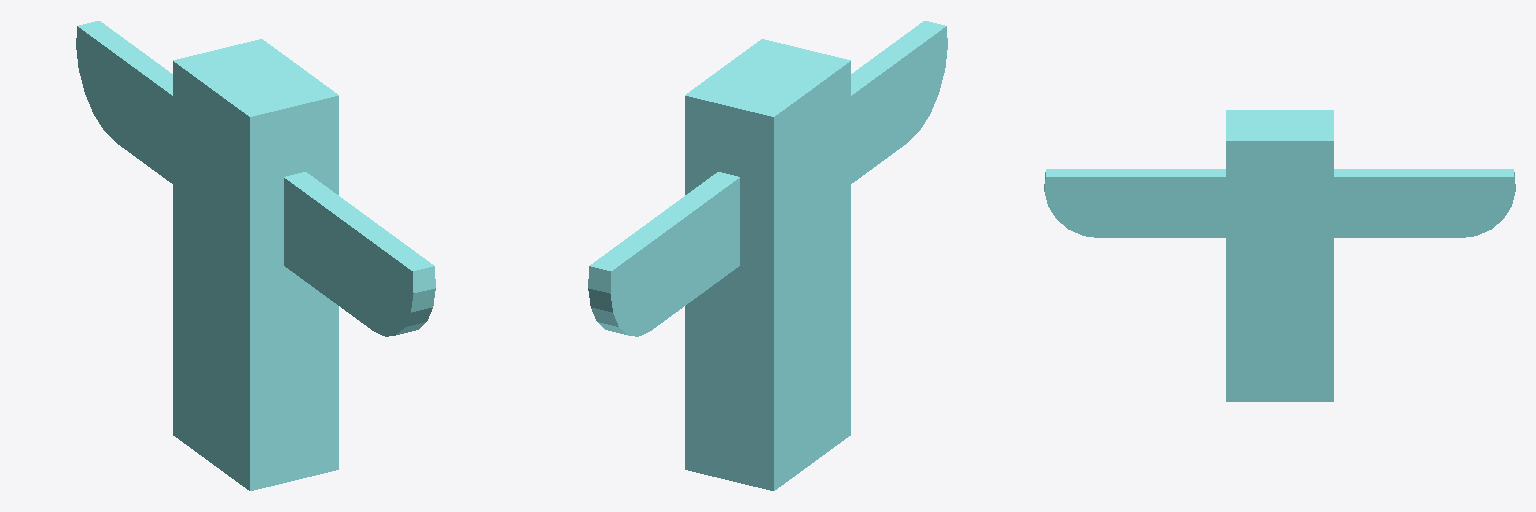
The robot description file, URDF, robot "fmav":
<?xml version="1.0" encoding="utf-8"?>
<!-- This URDF was automatically created by SolidWorks to URDF Exporter! Originally created by [author] ([email redacted]) 
     Commit Version: 1.5.1-0-g916b5db  Build Version: 1.5.7152.31018
     For more information, please see http://wiki.ros.org/sw_urdf_exporter -->
<robot
  name="fmav">
  <link
    name="base_link">
    <inertial>
      <origin
        xyz="-2.9764E-16 6.61603184855861E-17 -0.42584"
        rpy="0 0 0" />
      <mass
        value="57.007" />
      <inertia
        ixx="2.9506"
        ixy="2.9427E-14"
        ixz="-1.63159999999998E-16"
        iyy="4.691"
        iyz="4.04000201488969E-16"
        izz="2.0642" />
    </inertial>
    <visual>
      <origin
        xyz="0 0 -0.4"
        rpy="1.5707963267949 0 1.5707963267949" />
      <geometry>
        <mesh
          filename="package://rviz_teleop_commander/meshes/fmav.stl" />
      </geometry>
      <material
        name="">
        <color
          rgba="0.6549 0.99216 1 1" />
      </material>
    </visual>
    <collision>
      <origin
        xyz="0 0 0"
        rpy="1.5707963267949 0 0" />
      <geometry>
        <mesh
          filename="package://rviz_teleop_commander/meshes/fmav.stl" />
      </geometry>
    </collision>
  </link>
</robot>

--- What the picture shows (computed from the rendered views, not written in the file) ---
The picture shows the robot from 3 angles, left to right: view 1: azimuth 30°, elevation 25°; view 2: azimuth 150°, elevation 25°; view 3: azimuth 270°, elevation 25°; orthographic projection.
Robot: fmav — 1 links, 0 joints (none); root link base_link; default pose: every joint at zero.
Links seen in each view (by area): view 1: base_link; view 2: base_link; view 3: base_link.
Boxes of the visible links, box(x1,y1,x2,y2) form: base_link: box(76, 21, 435, 490); base_link: box(588, 21, 947, 490); base_link: box(1044, 110, 1515, 401).
Bounding box of the posed robot: 0.2 × 1.31 × 0.8 m (x, y, z).
1 mesh visuals loaded from 1 distinct referenced files (1 binary STL).
